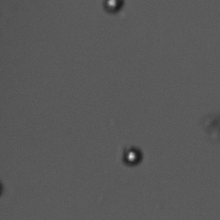Living Cell: (121, 144, 144, 167), (102, 1, 125, 14)
